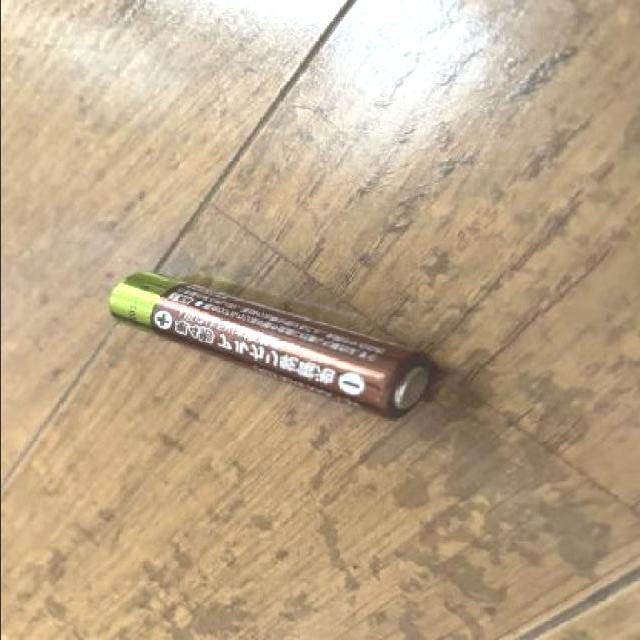AAA: (103, 268, 442, 427)
